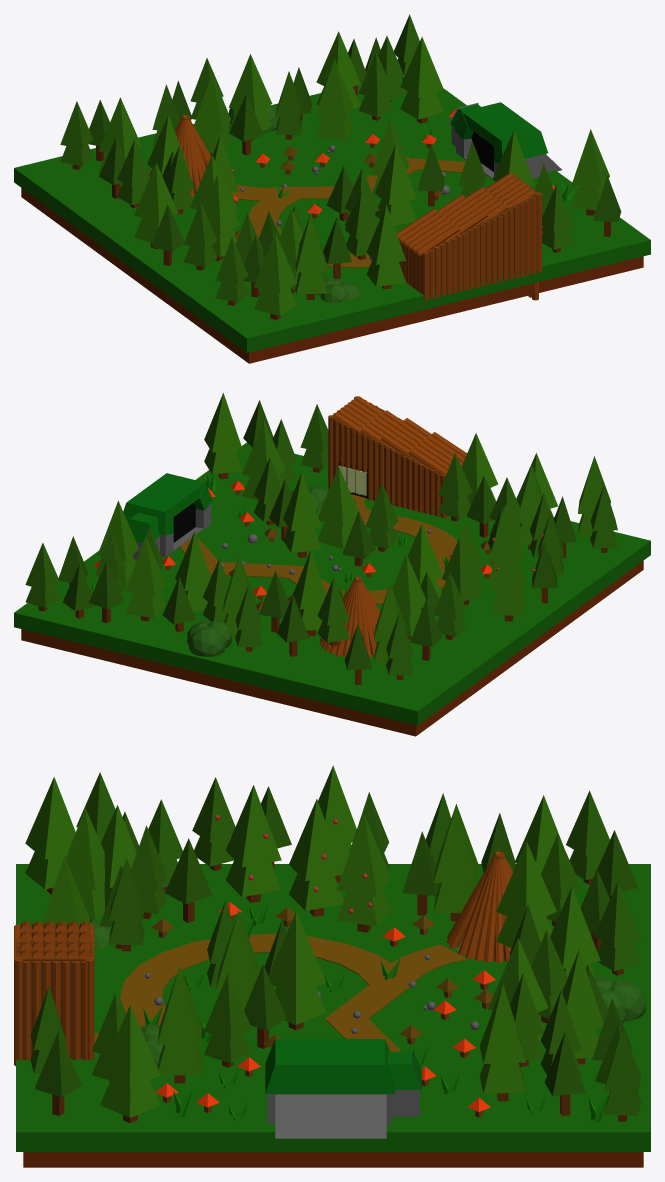
File: ForestMap.fbx
The picture shows the model from 3 angles, top to bottom: view 1: azimuth 30°, elevation 25°; view 2: azimuth 150°, elevation 25°; view 3: azimuth 270°, elevation 25°; orthographic projection. The views are drawn at different scales.
Visible parts, largest first — view 1: Cube.149, Cylinder.005, Cube.181, Cube.183, Cube.208, Cube.150, Cube.194, Cube.156, Cube.171, Cube.153, Cube.174, Cube.191 (+44 smaller); view 2: Cube.149, Cylinder.004, Cube.181, Cube.183, Cube.204, Cylinder.012, Cube.174, Cube.168, Cube.171, Cube.189, Cube.208, Cube.162 (+50 smaller); view 3: Cube.149, Cube.183, Cube.181, Cube.180, Cube.174, Cylinder.012, Cylinder, Cube.186, Cube.168, Cube.190, Cube.179, Cube.150 (+52 smaller).
Boxes of the visible parts, x1,y1,x2,y2 form: Cube.149: (14, 78, 650, 363); Cylinder.005: (422, 192, 541, 300); Cube.181: (454, 102, 547, 181); Cube.183: (232, 158, 485, 267); Cube.208: (399, 174, 539, 294); Cube.150: (400, 36, 443, 123); Cube.194: (254, 233, 297, 320); Cube.156: (366, 205, 405, 289); Cube.171: (374, 144, 416, 225); Cube.153: (316, 59, 353, 140); Cube.174: (571, 129, 609, 215); Cube.191: (295, 213, 327, 299); Cube.149: (14, 442, 650, 736); Cylinder.004: (328, 415, 447, 517); Cube.181: (123, 473, 212, 556); Cube.183: (179, 494, 457, 604); Cube.204: (125, 536, 165, 621); Cylinder.012: (319, 576, 380, 657); Cube.174: (204, 393, 242, 479); Cube.168: (283, 471, 321, 557); Cube.171: (318, 466, 358, 548); Cube.189: (491, 535, 526, 621); Cube.208: (330, 397, 448, 517); Cube.162: (292, 549, 326, 636); Cube.149: (16, 864, 650, 1167); Cube.183: (94, 933, 466, 1052); Cube.181: (265, 1039, 394, 1123); Cube.180: (275, 1094, 386, 1138); Cube.174: (100, 1005, 160, 1123); Cylinder.012: (446, 851, 513, 962); Cylinder: (22, 961, 80, 1060); Cube.186: (225, 785, 281, 902); Cube.168: (268, 912, 326, 1030); Cube.190: (289, 799, 343, 916); Cube.179: (336, 814, 391, 932); Cube.150: (479, 984, 526, 1101).
Size of the model in its own units: 3010 by 878 by 2959.
